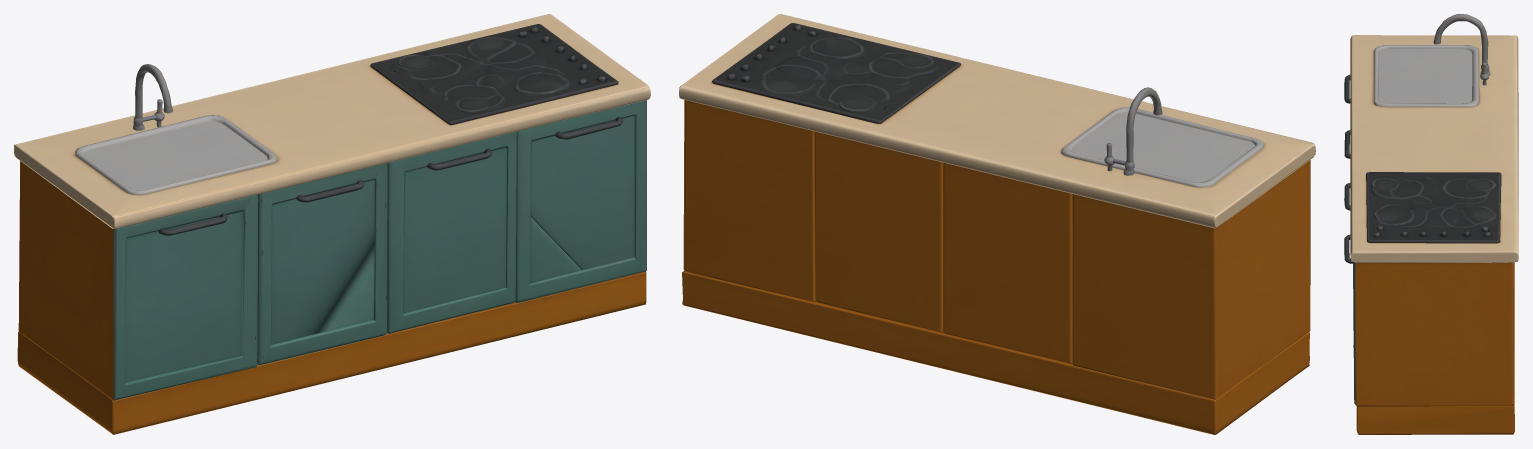
File: apartment-kitchen.glb
3 renders of one model, left to right at view 1: azimuth 30°, elevation 25°; view 2: azimuth 150°, elevation 25°; view 3: azimuth 270°, elevation 25°, orthographic. The views are drawn at different scales.
Visible parts, largest first — view 1: geometry_0; view 2: geometry_0; view 3: geometry_0.
Boxes of the visible parts, <box> form: geometry_0: <box>14,14,650,434</box>; geometry_0: <box>679,14,1315,434</box>; geometry_0: <box>1344,14,1518,434</box>.
Bounding box in the file's own units: 1 × 0.5437 × 0.34.
Materials: 1 (1 with a texture image).
